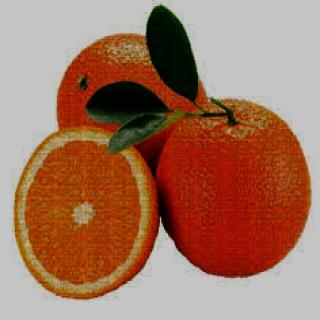orange: (154, 87, 318, 295), (42, 10, 252, 170), (1, 124, 172, 320)
